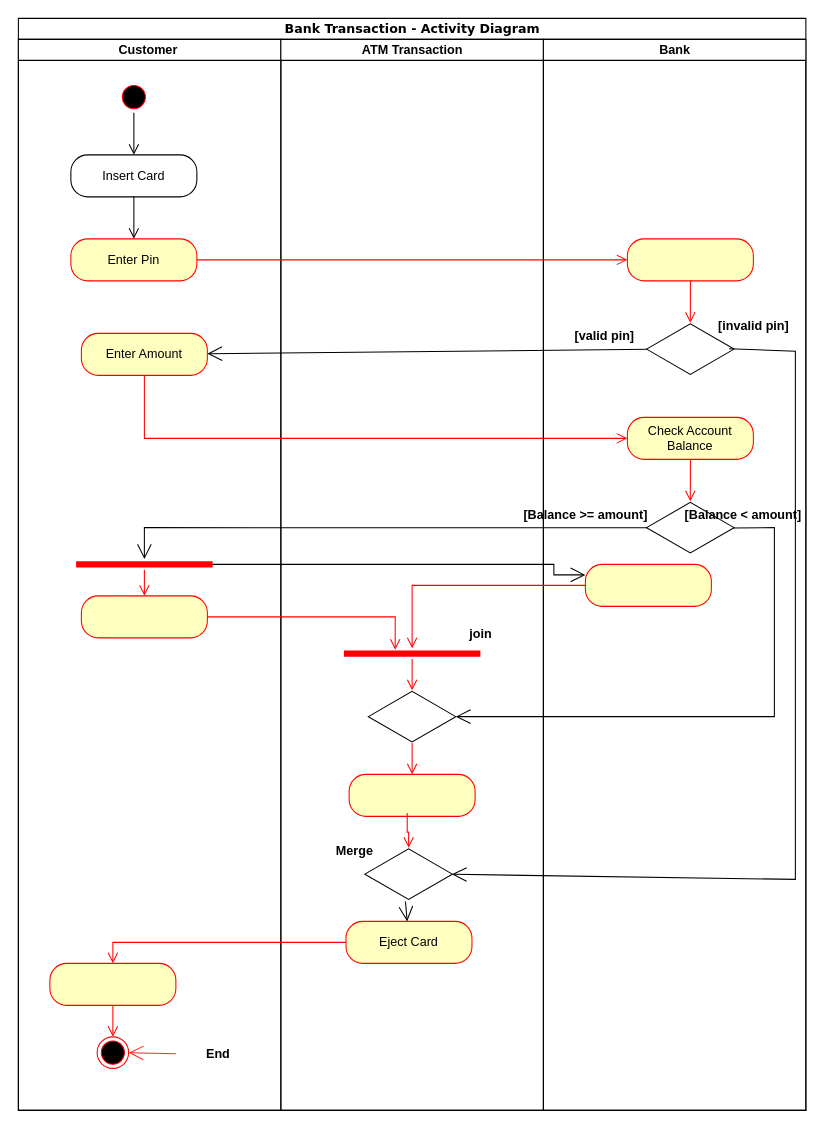
The diagram is 828 pixels wide and 1129 high, and some of its shapes have lost their labels. The centre of each missing label's shape, as x and y in pixels:
"Authorize" goes at (x=689, y=259).
"debit account" goes at (x=647, y=584).
"Show Balance" goes at (x=411, y=794).
"Take Card" goes at (x=112, y=983).
"Take money from slot" goes at (x=143, y=616).
